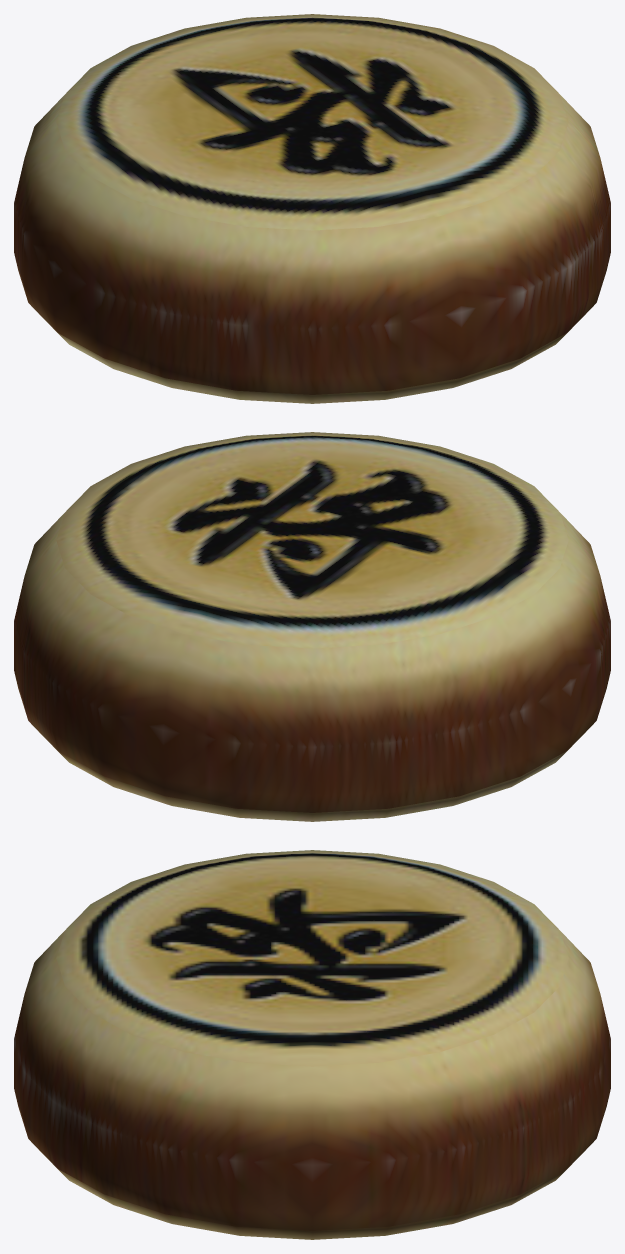
The model's file is Black_04_general.gltf.
3 renders of one model, top to bottom at view 1: azimuth 30°, elevation 25°; view 2: azimuth 150°, elevation 25°; view 3: azimuth 270°, elevation 25°, orthographic.
Visible parts, largest first — view 1: Black_04_general; view 2: Black_04_general; view 3: Black_04_general.
Part boxes in pixels (box(x1,y1,x2,y2)): Black_04_general: box(14, 14, 610, 403); Black_04_general: box(14, 432, 610, 821); Black_04_general: box(14, 850, 610, 1239).
Bounding box in the file's own units: 0.0468 × 0.0155 × 0.0468.
Materials: 1 (1 with a texture image).
